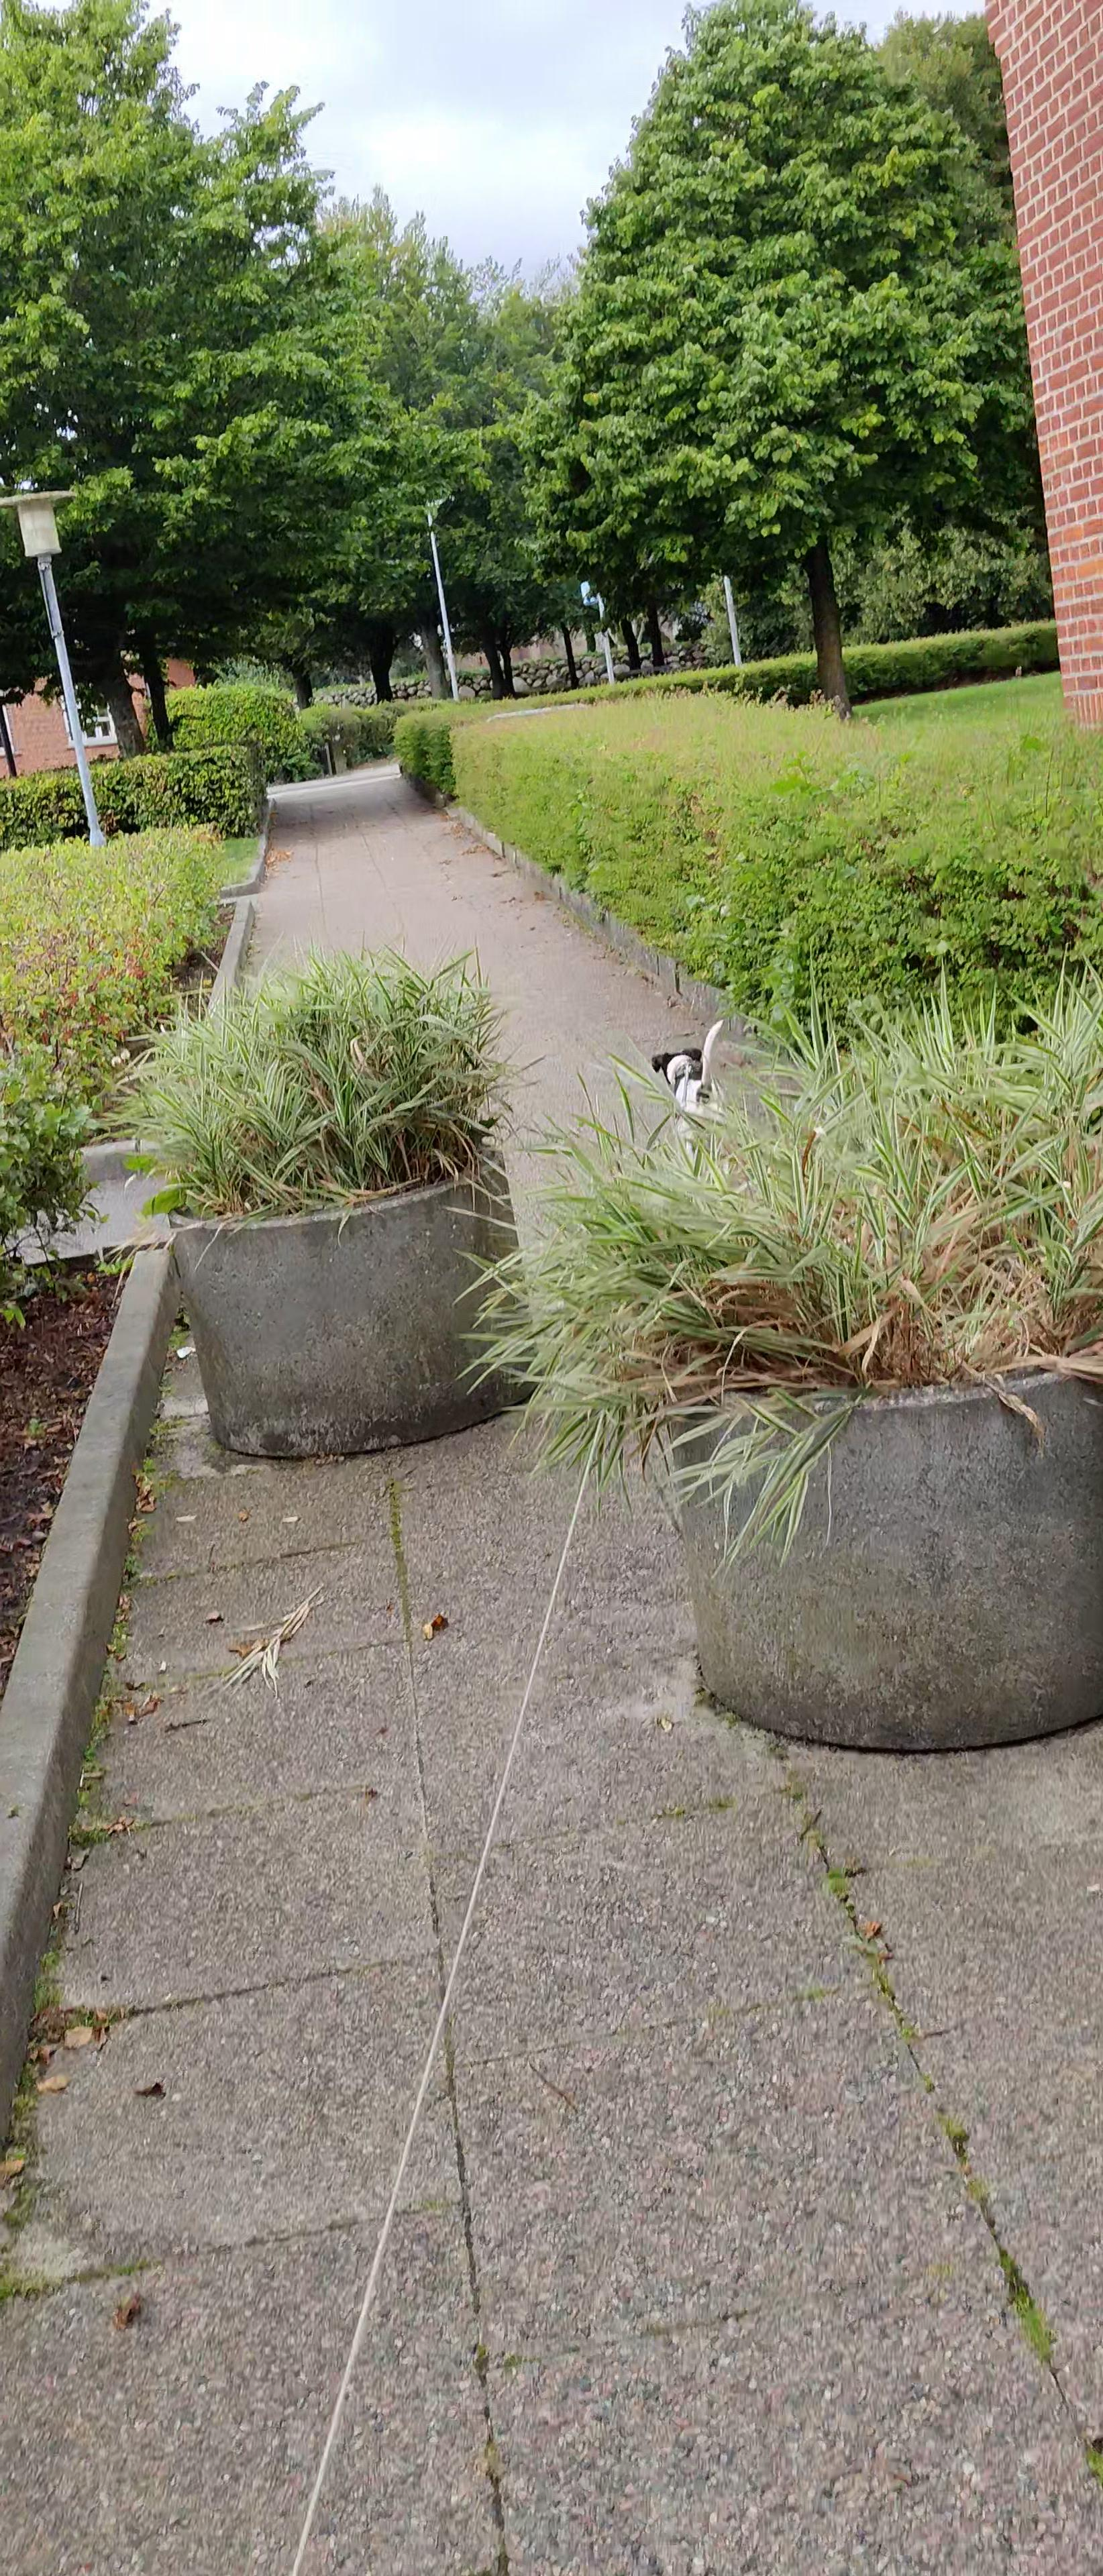Dog: (646, 1015, 728, 1176)
